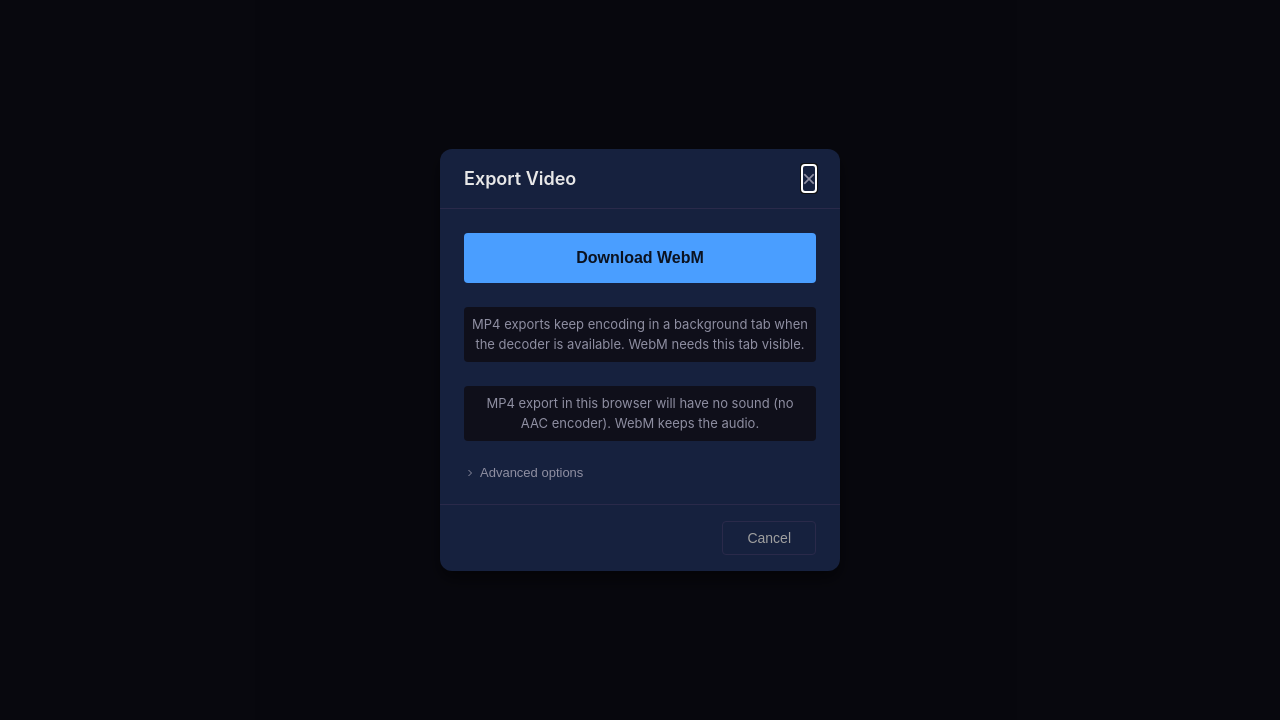
Test case: ExportDialog › browser support › says MP4 will have no sound, up front, when this browser has no AAC encoder
Click the button "Advanced options". click: (532, 472)
box: [464, 465, 816, 480]
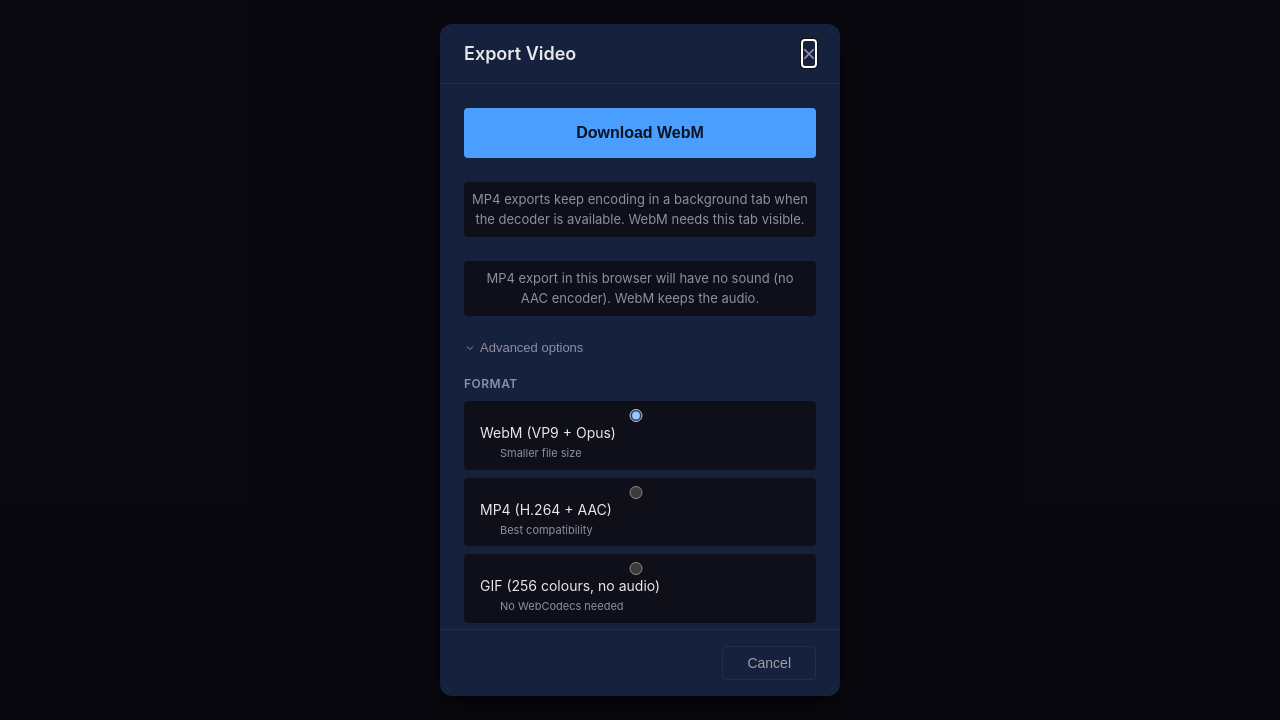
expect the radio button labelled "MP4 (H.264 + AAC) Best compatibility" is enabled: met
Click the radio button labelled "MP4 (H.264 + AAC) Best compatibility". click: (636, 492)
box: [480, 486, 792, 498]
(page scrolled)
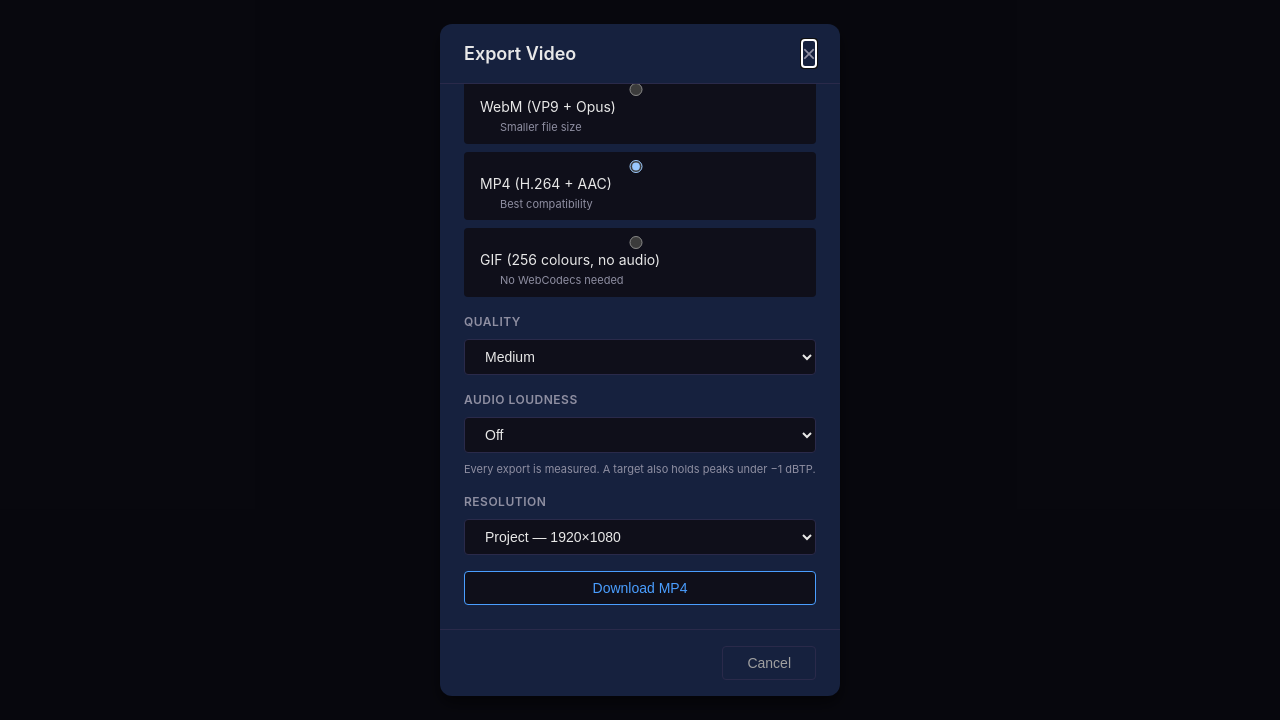
expect the button "Download MP4" is enabled: met, box [464, 571, 816, 605]
